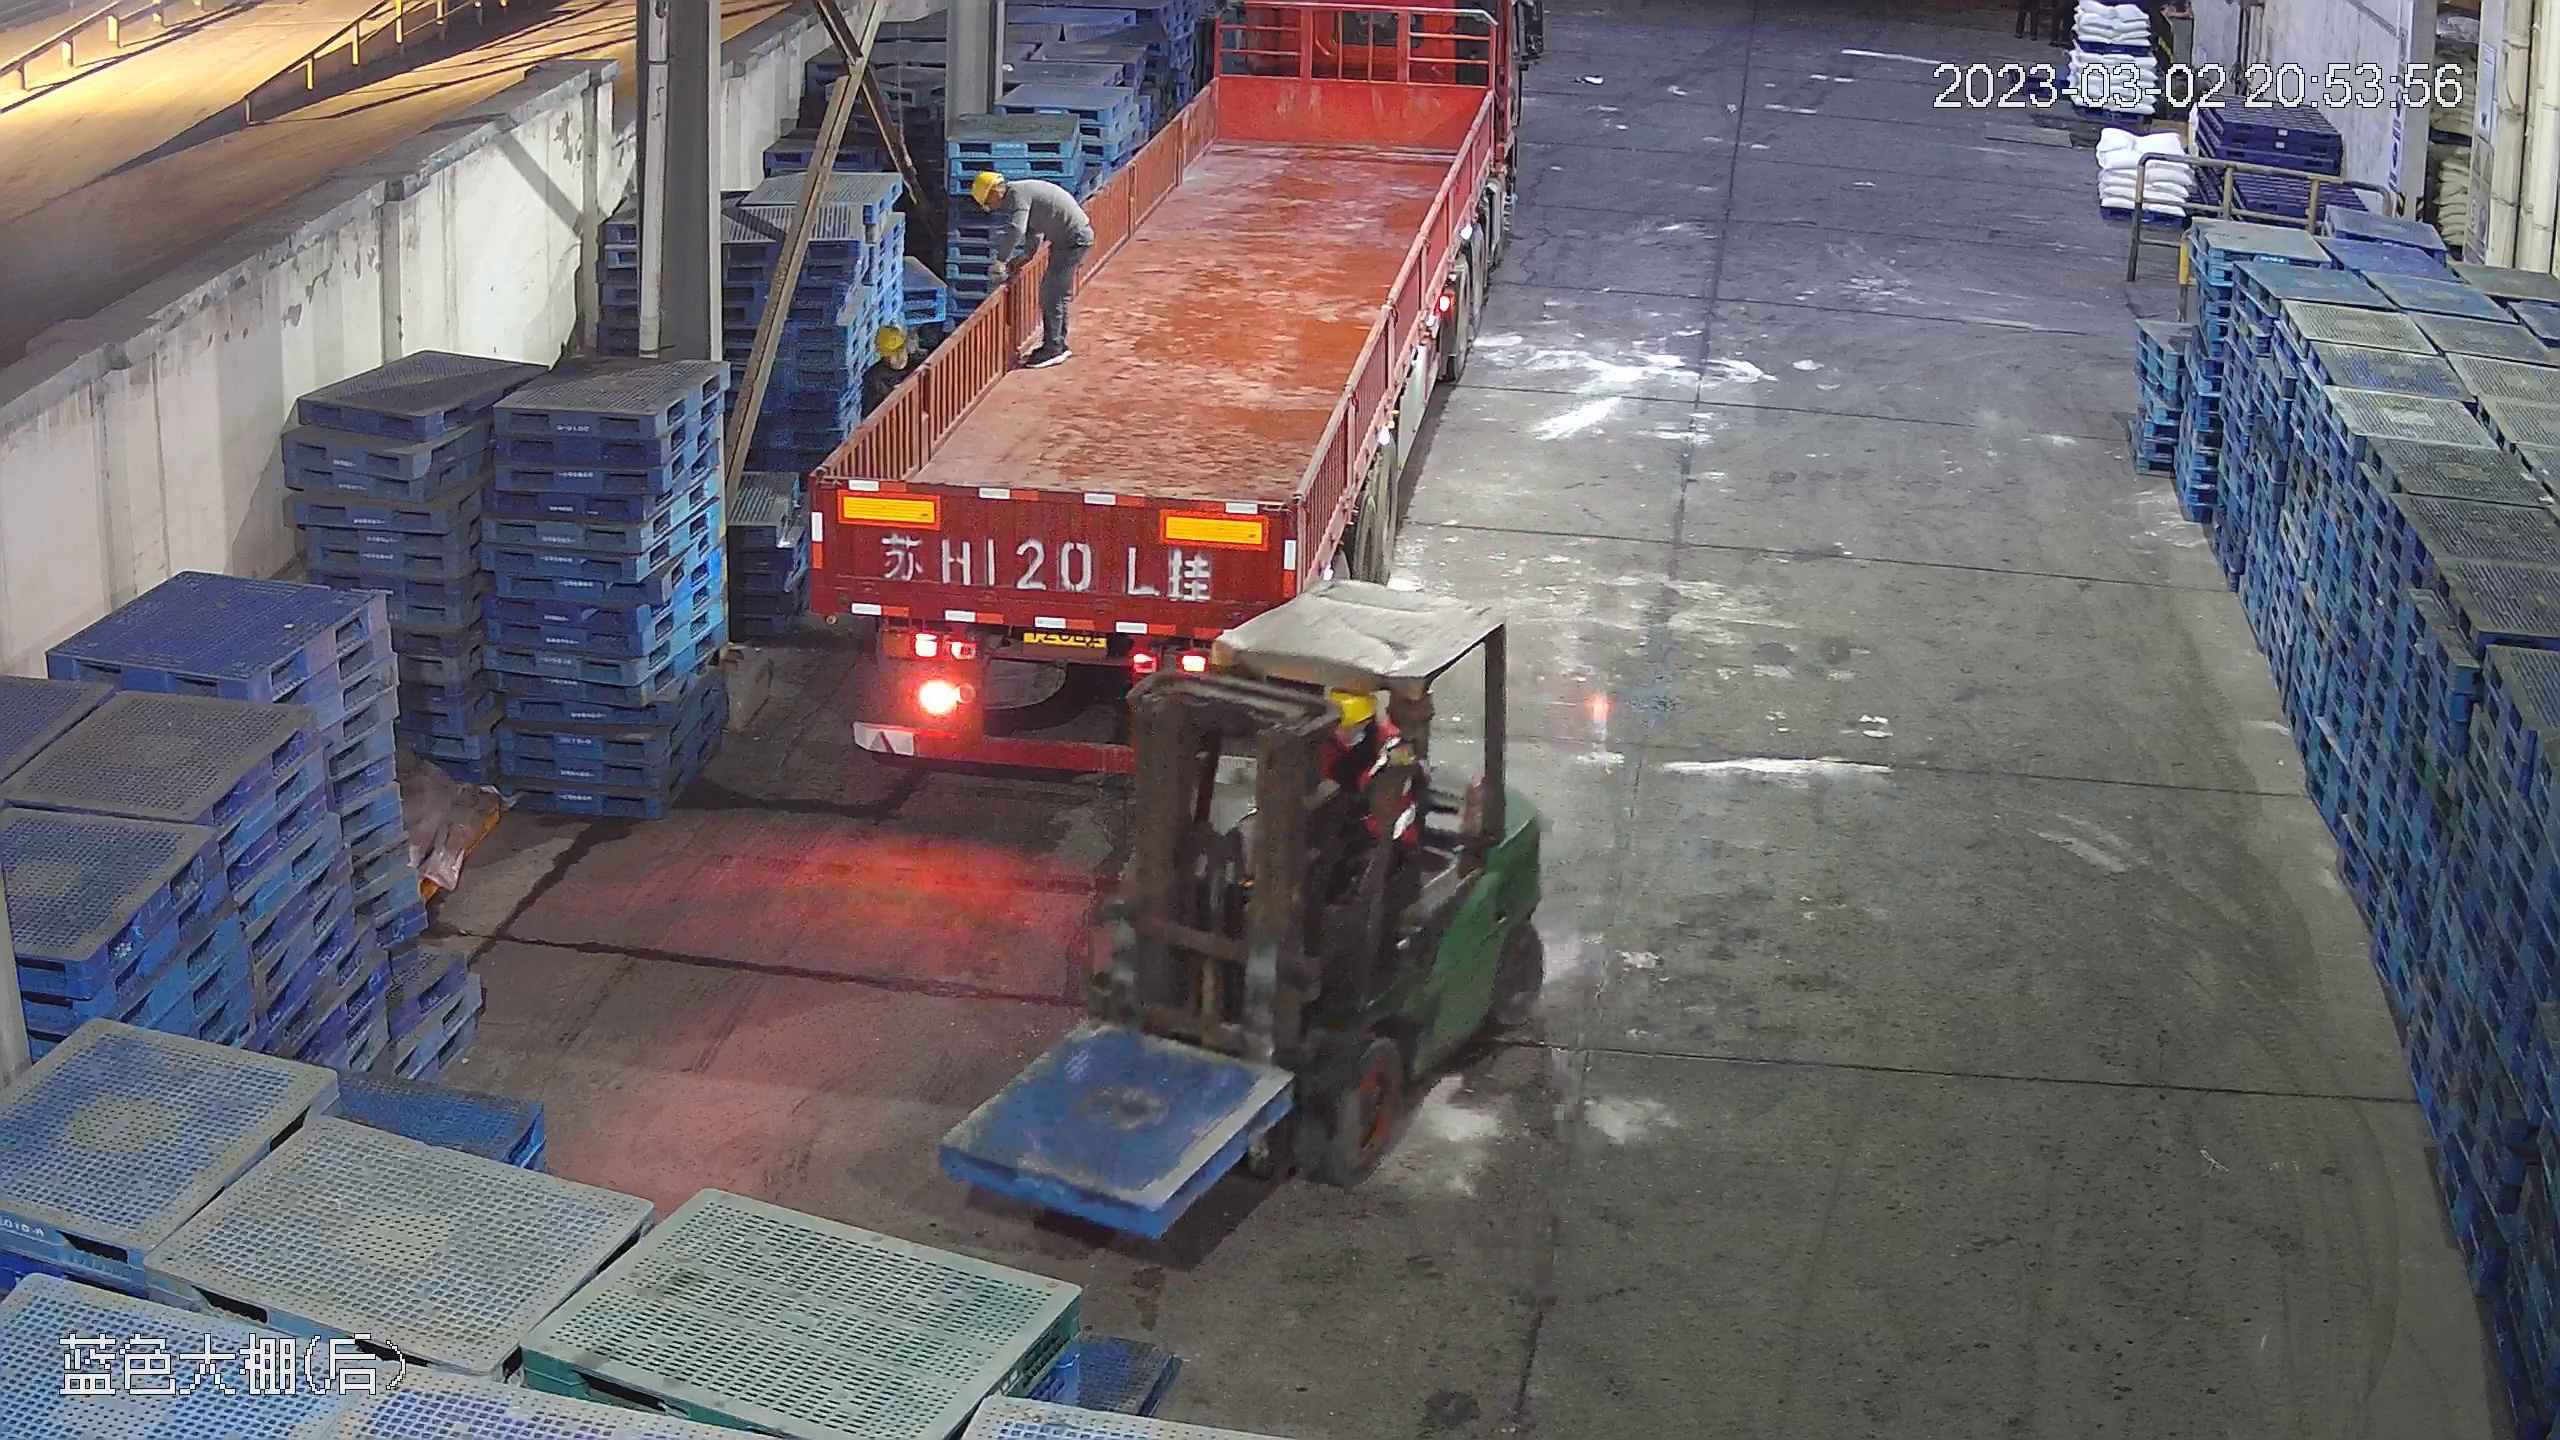head: (968, 170, 1041, 233)
helmet: (870, 323, 908, 358), (969, 169, 1003, 204)
people: (969, 168, 1091, 363)
truck: (809, 9, 1531, 730)
